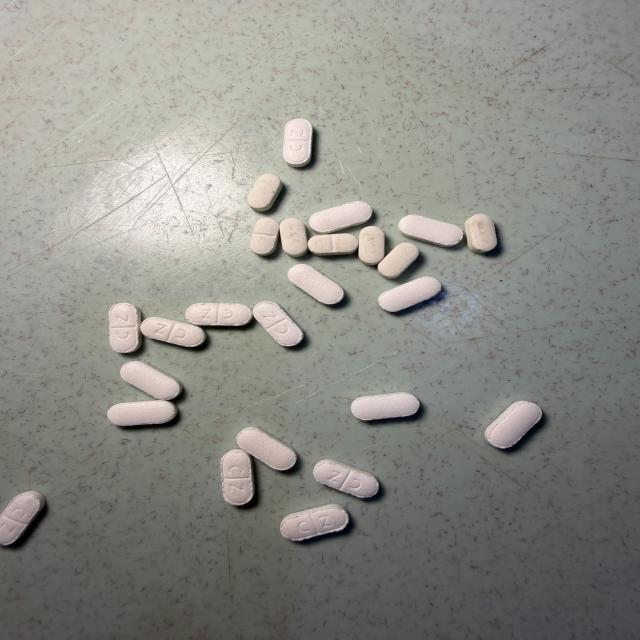pill: (485, 401, 542, 448), (237, 427, 296, 470), (314, 459, 379, 498), (280, 504, 348, 541), (0, 491, 45, 545), (121, 361, 182, 400), (253, 301, 303, 346), (288, 264, 344, 304), (378, 277, 441, 312), (309, 201, 372, 233), (399, 215, 462, 246), (141, 317, 206, 347), (351, 392, 419, 420), (221, 449, 254, 506), (108, 400, 177, 426), (109, 303, 141, 353), (185, 303, 252, 326), (283, 119, 313, 167), (378, 243, 419, 278), (247, 174, 282, 211), (465, 214, 497, 253), (250, 218, 279, 255), (308, 234, 358, 255), (280, 218, 307, 256), (359, 226, 384, 265)
